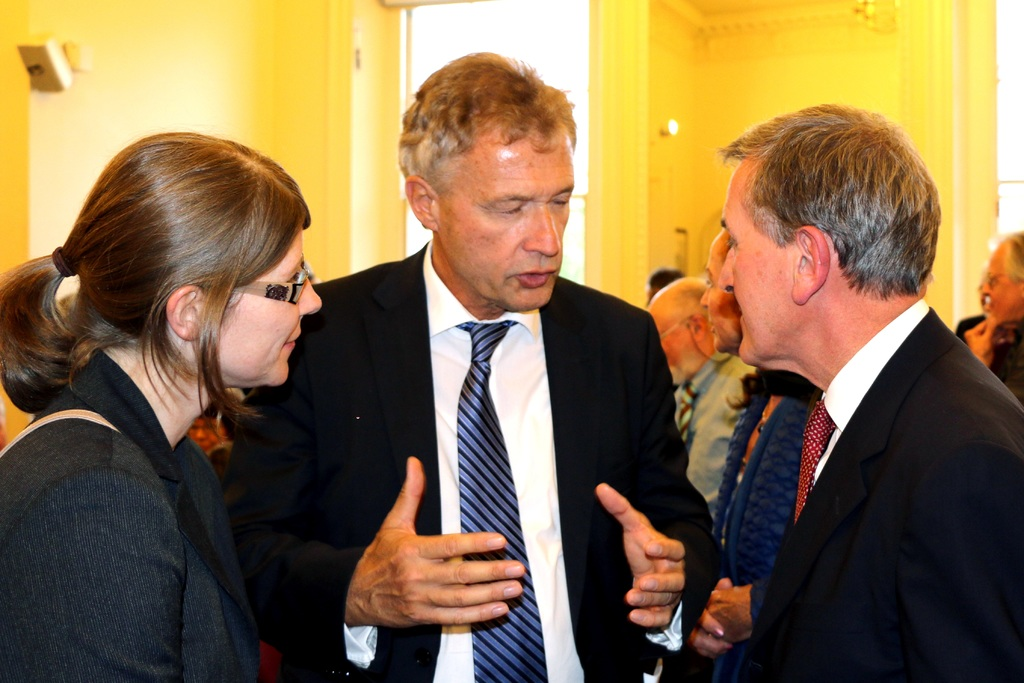Human-face: (440, 128, 574, 308), (200, 231, 323, 384), (719, 161, 799, 365), (700, 239, 740, 352), (984, 243, 1023, 319)
